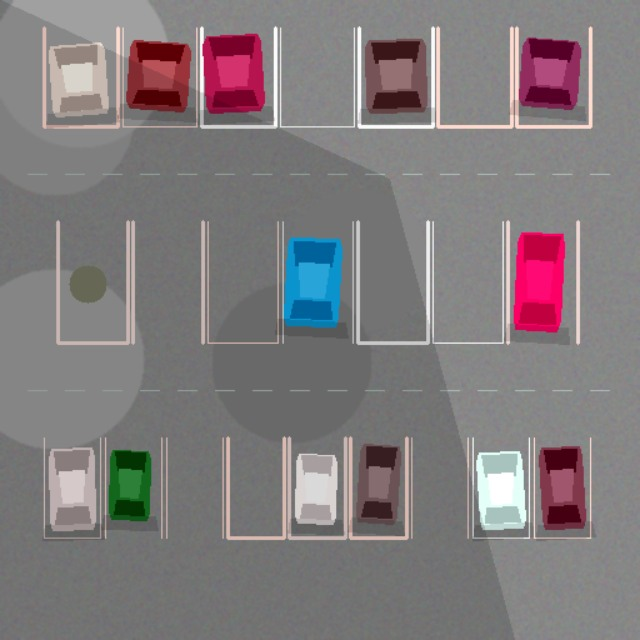space-empty: (57, 221, 127, 343), (133, 221, 203, 343), (207, 221, 277, 343), (357, 221, 427, 343), (433, 221, 503, 343), (280, 27, 354, 126), (438, 27, 511, 126), (166, 438, 223, 538), (227, 438, 284, 538), (411, 438, 467, 538)
space-occupied: (283, 221, 353, 343), (507, 221, 577, 343), (44, 27, 118, 126), (122, 27, 196, 126), (201, 27, 275, 126), (516, 27, 590, 126), (359, 27, 432, 126), (44, 438, 100, 538), (105, 438, 161, 538), (289, 438, 345, 538), (350, 438, 406, 538), (473, 438, 529, 538), (534, 438, 590, 538)
